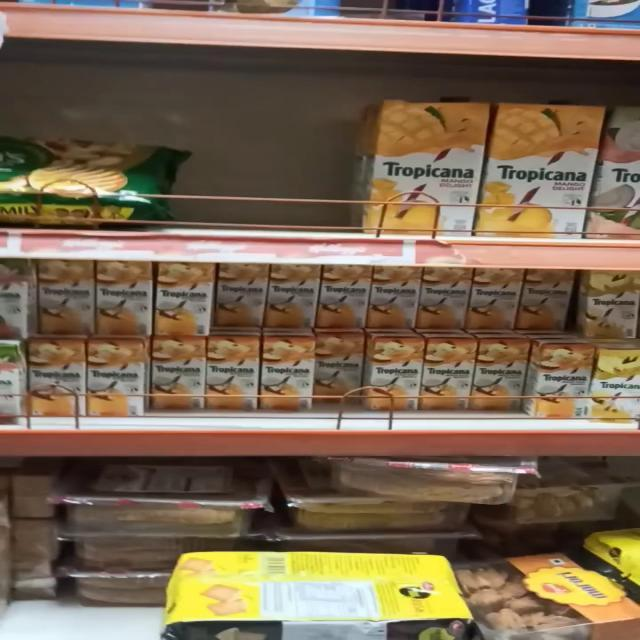Tropicana: (363, 96, 495, 231), (487, 94, 587, 238), (32, 260, 96, 334), (85, 343, 146, 419), (154, 260, 208, 340), (28, 343, 88, 412), (470, 340, 530, 408), (96, 262, 151, 336), (204, 337, 260, 408), (314, 339, 371, 407), (260, 340, 318, 406), (533, 345, 588, 414), (366, 342, 424, 405), (418, 268, 472, 332), (212, 266, 264, 331), (317, 267, 369, 331), (370, 268, 422, 332), (150, 340, 203, 402), (268, 266, 319, 330), (517, 272, 569, 334), (471, 270, 522, 332), (425, 340, 471, 408)
